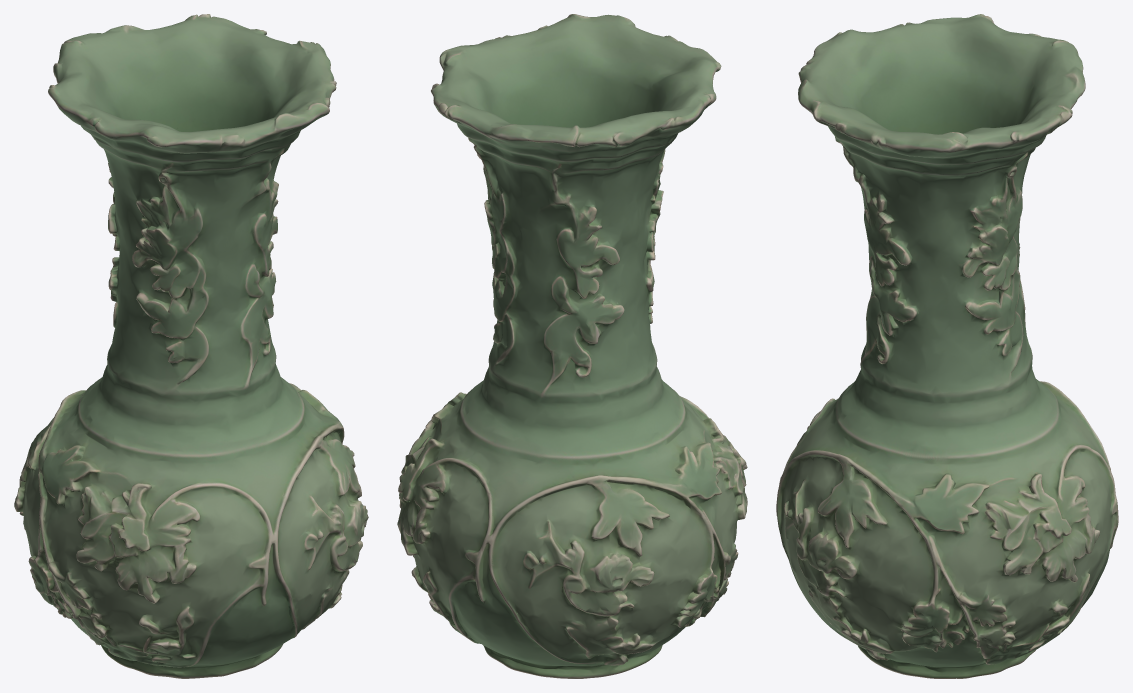
Rendered from 8aa3ba7a-cd67-4a63-ad3f-193ede8a2c0a.glb.
3 renders of one model, left to right at view 1: azimuth 30°, elevation 25°; view 2: azimuth 150°, elevation 25°; view 3: azimuth 270°, elevation 25°, orthographic.
Visible parts, largest first — view 1: tripo_node_ec0863d9-84f9-4124-b556-69b2f76243d1; view 2: tripo_node_ec0863d9-84f9-4124-b556-69b2f76243d1; view 3: tripo_node_ec0863d9-84f9-4124-b556-69b2f76243d1.
Boxes of the visible parts, bbox=[...] form: tripo_node_ec0863d9-84f9-4124-b556-69b2f76243d1: bbox=[14, 14, 368, 678]; tripo_node_ec0863d9-84f9-4124-b556-69b2f76243d1: bbox=[397, 14, 747, 678]; tripo_node_ec0863d9-84f9-4124-b556-69b2f76243d1: bbox=[776, 14, 1118, 678].
Size of the model in its own units: 0.5454 by 1 by 0.5421.
Materials: 1 (1 with a texture image).
